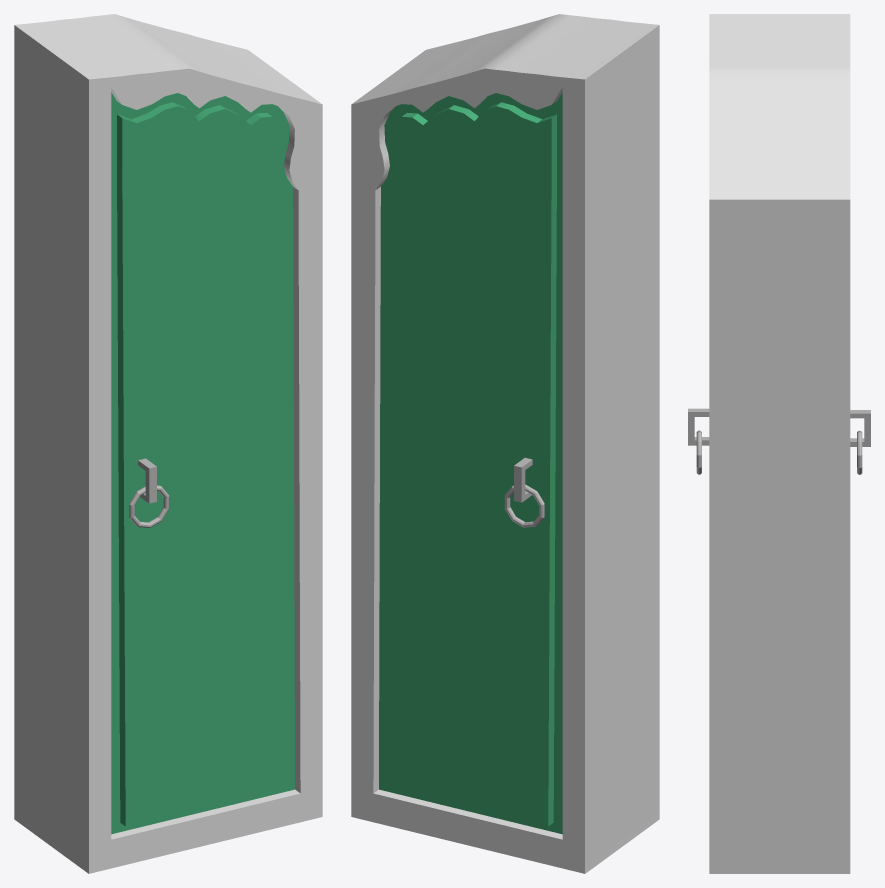
The model's file is PortaInterna1.fbx.
3 renders of one model, left to right at view 1: azimuth 30°, elevation 25°; view 2: azimuth 150°, elevation 25°; view 3: azimuth 270°, elevation 25°, orthographic. The views are drawn at different scales.
Visible parts, largest first — view 1: pCube12; view 2: pCube12; view 3: pCube12.
Part boxes in pixels (x1=…): pCube12: x1=14, y1=14, x2=322, y2=873; pCube12: x1=351, y1=14, x2=659, y2=873; pCube12: x1=688, y1=14, x2=870, y2=873.
Size of the model in its own units: 90.55 by 294 by 64.81.
